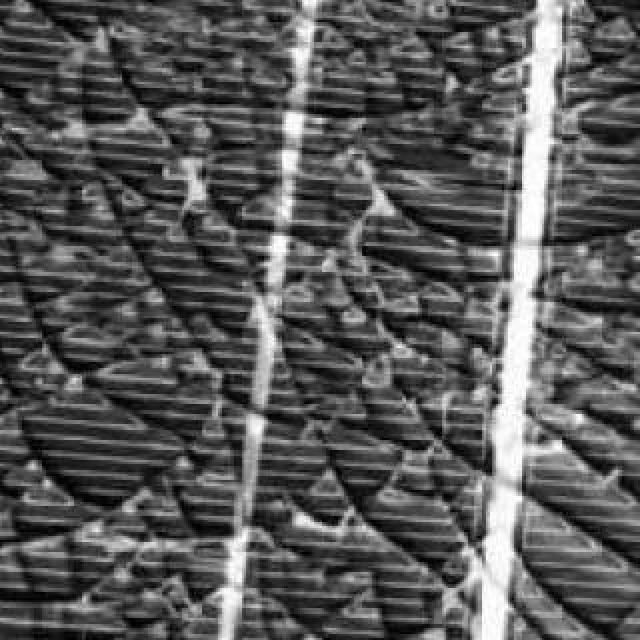Physical-damage: (19, 9, 623, 629)
